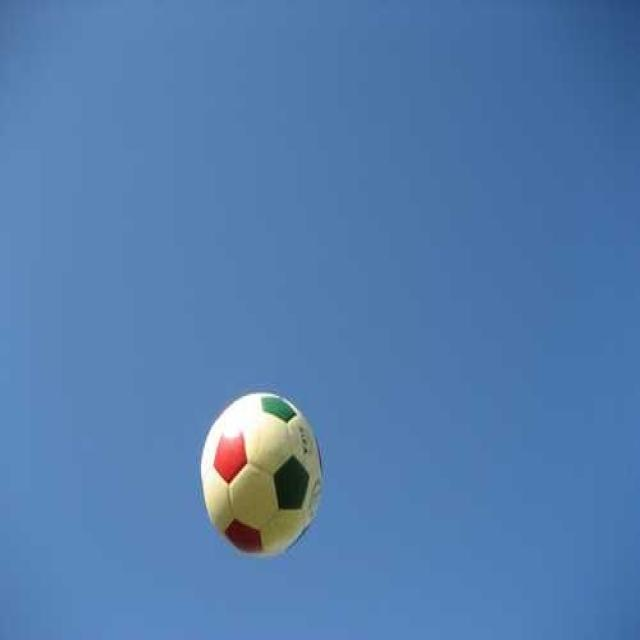ball: (200, 391, 326, 556)
